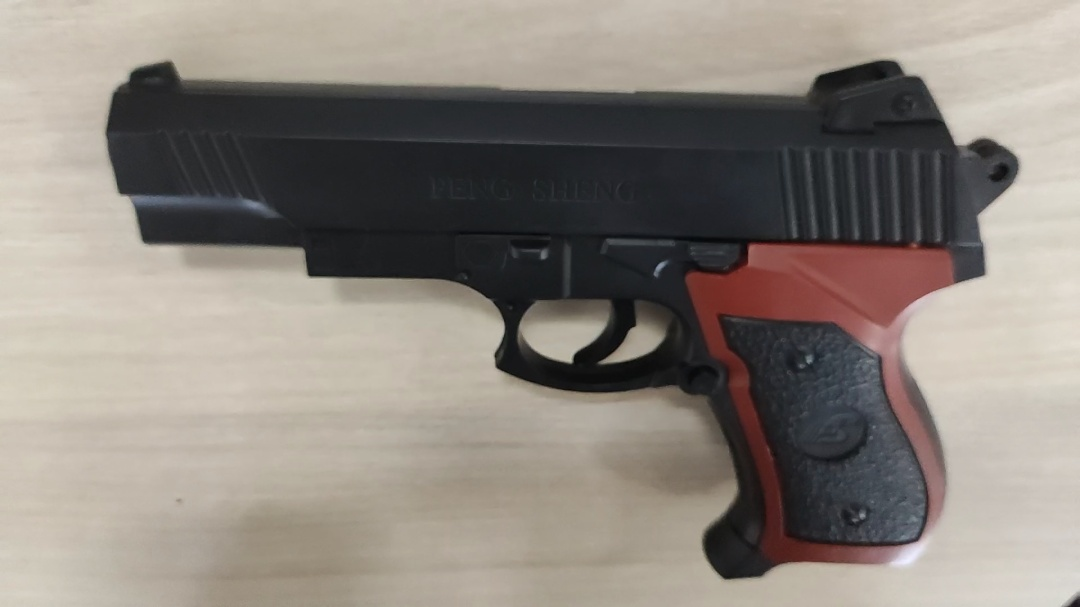gun: (396, 227, 485, 290)
